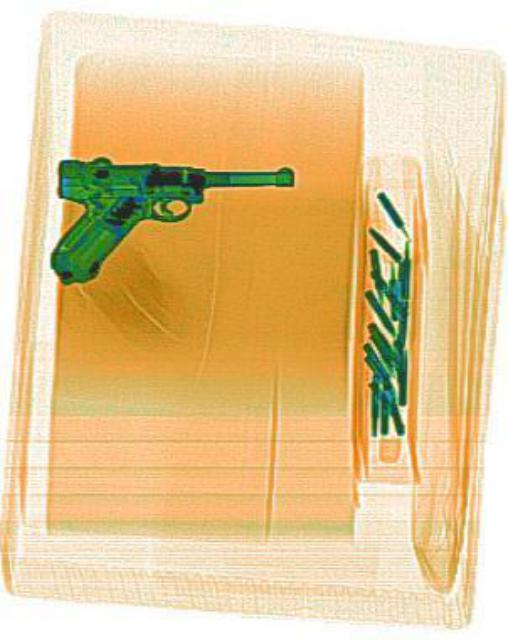Gun: (48, 155, 291, 289)
